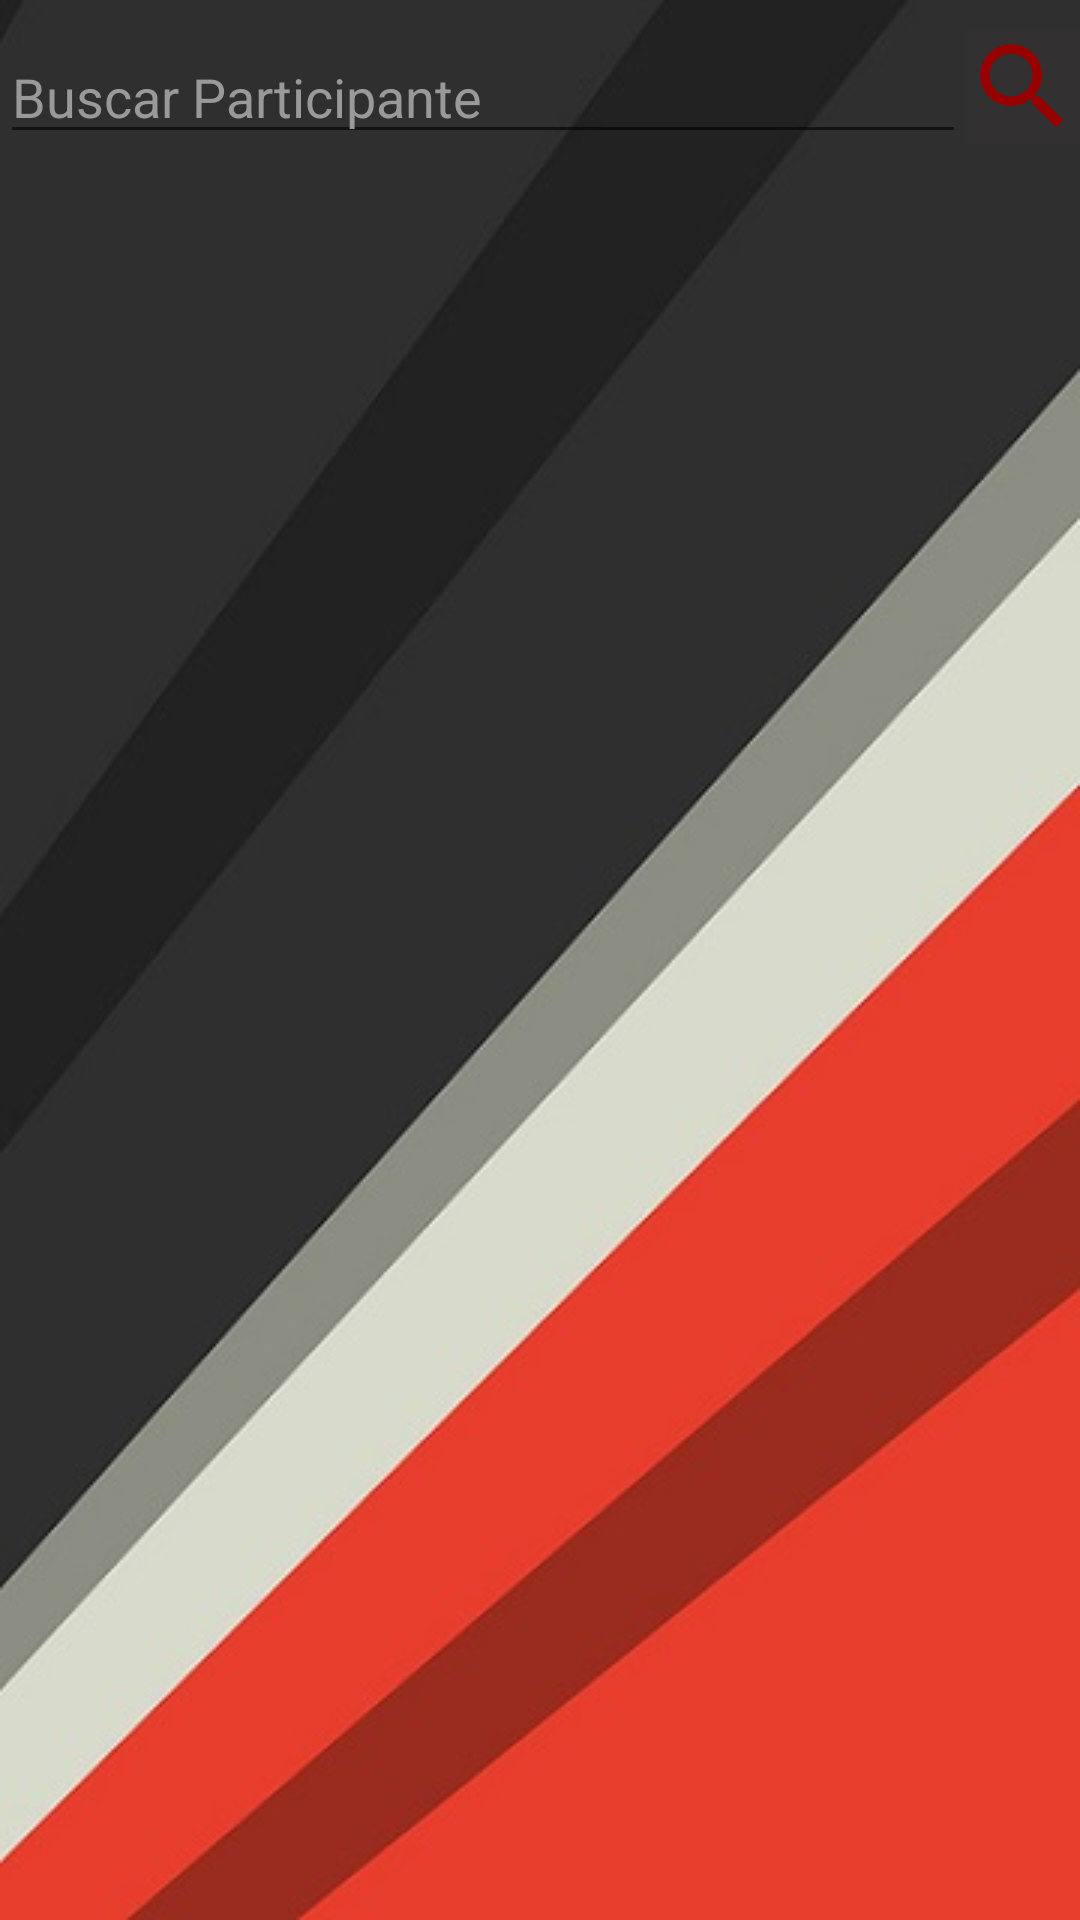

Icons on this 1080 x 1920 Android screen, each with the point to tap as [x,y]:
lupa: [1021,85]
